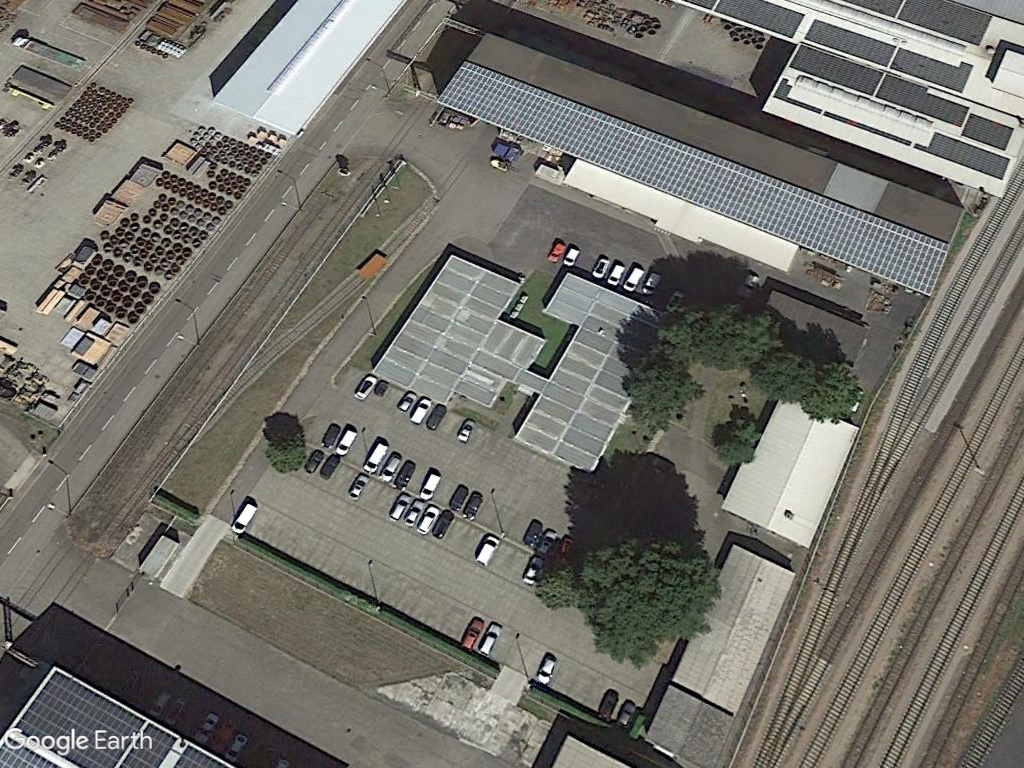van: (228, 497, 260, 539), (359, 440, 392, 477), (334, 425, 360, 460)
